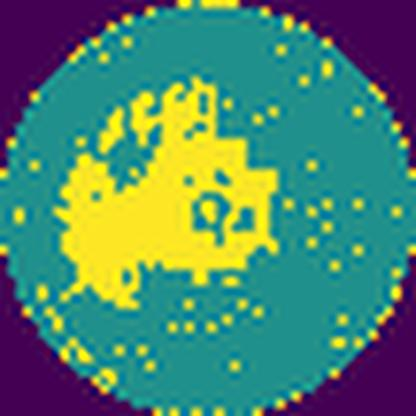Loc: (56, 73, 281, 310)
